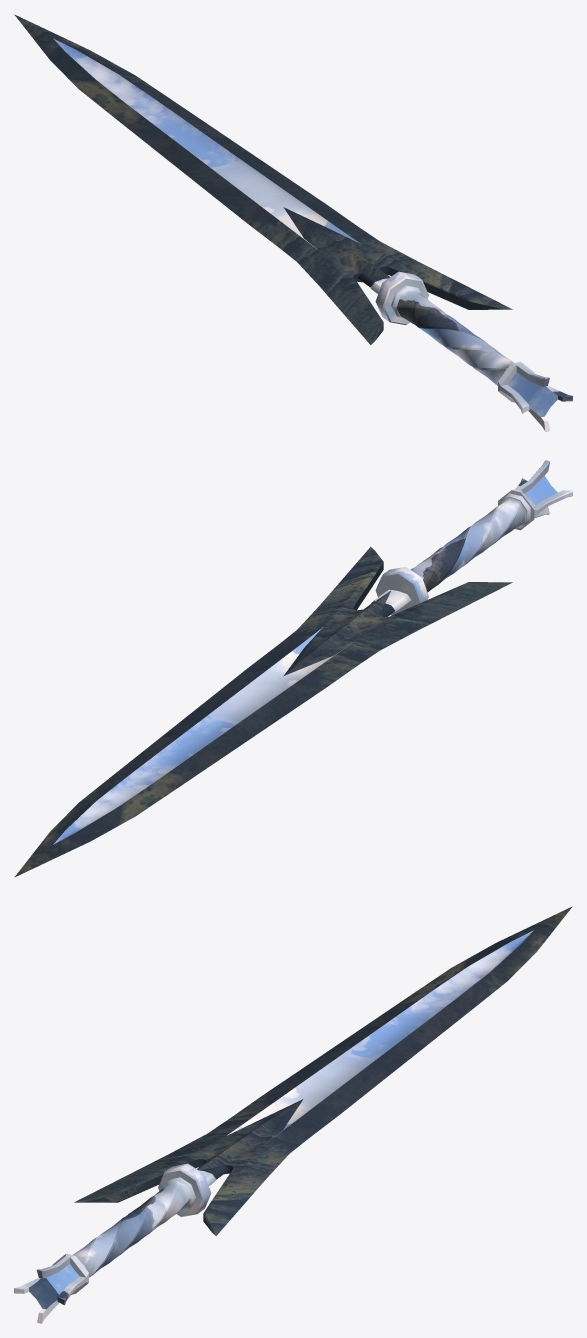
File: magic_sword.fbx
3 renders of one model, top to bottom at view 1: azimuth 30°, elevation 25°; view 2: azimuth 150°, elevation 25°; view 3: azimuth 330°, elevation 25°, orthographic.
Visible parts, largest first — view 1: MagicSword; view 2: MagicSword; view 3: MagicSword.
Boxes of the visible parts, x1=… form: MagicSword: x1=14, y1=14, x2=572, y2=431; MagicSword: x1=14, y1=460, x2=572, y2=877; MagicSword: x1=14, y1=906, x2=572, y2=1323.
Size of what is drawn, in the model's own units: 191 by 68.88 by 1242.
